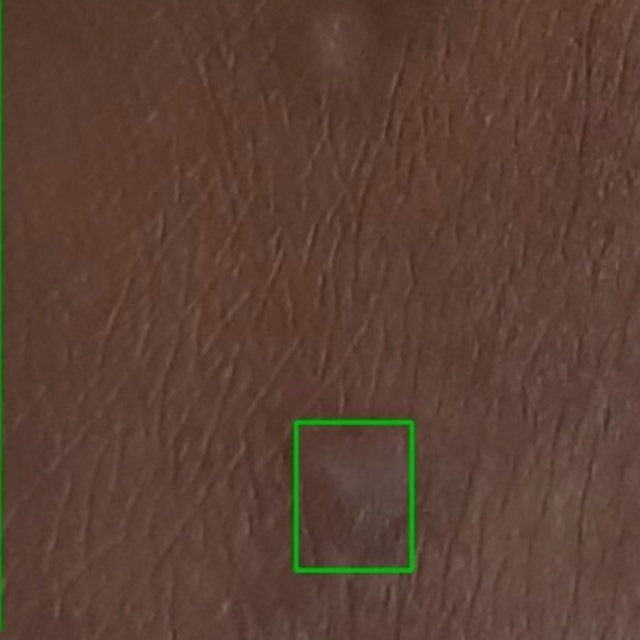Eczema: (296, 422, 412, 570)
